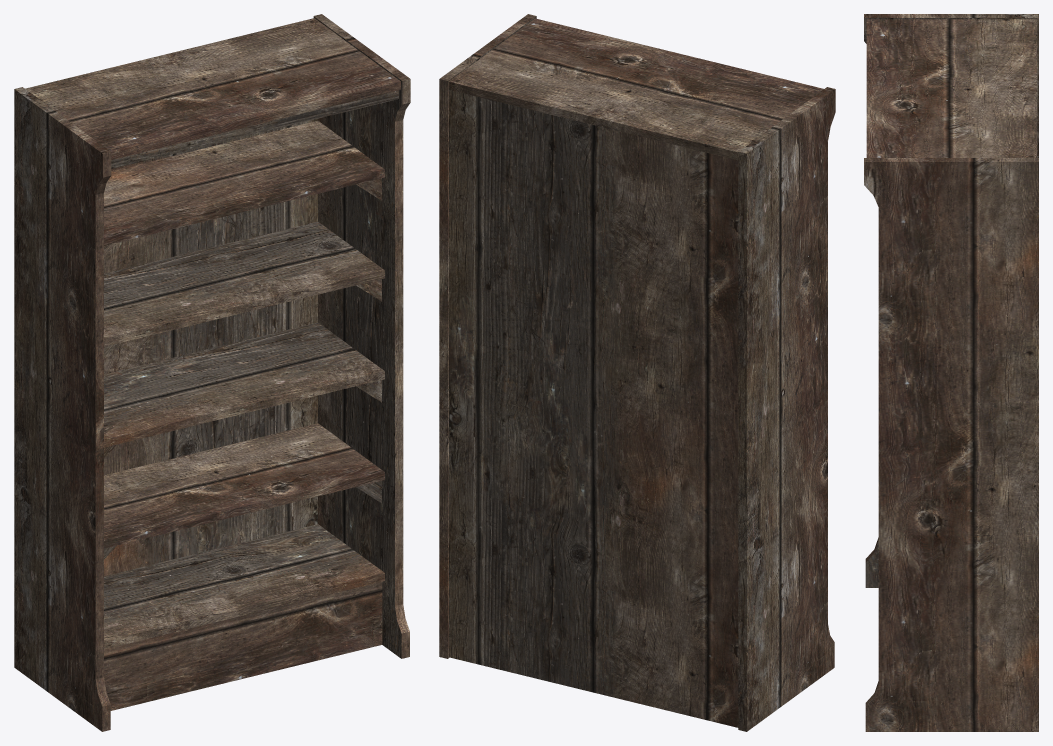
File: cupboard5.fbx
3 renders of one model, left to right at view 1: azimuth 30°, elevation 25°; view 2: azimuth 150°, elevation 25°; view 3: azimuth 270°, elevation 25°, orthographic.
Parts seen in each view (by area): view 1: polySurface463; view 2: polySurface463; view 3: polySurface463.
Boxes of the visible parts, box(x1,y1,x2,y2) form: polySurface463: box(14, 14, 410, 731); polySurface463: box(439, 14, 835, 731); polySurface463: box(864, 14, 1038, 731).
Bounding box in the file's own units: 1.45 × 2.61 × 0.7251.
